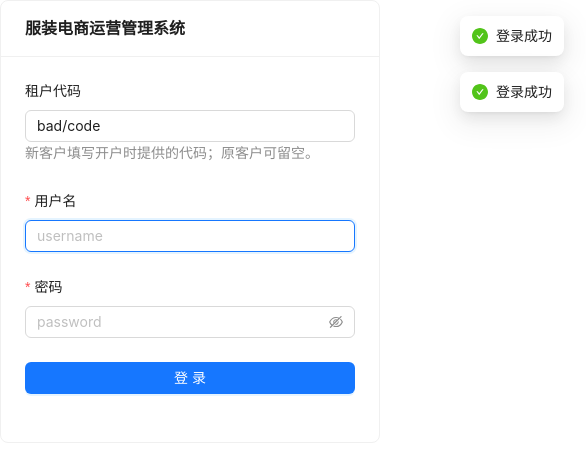
Test: 租户登录 › 非法租户代码不提交
This screenshot has width=586, height=460.
Step 1. Type "admin" into the field labelled "用户名" → (190, 236), box [25,220,355,252]
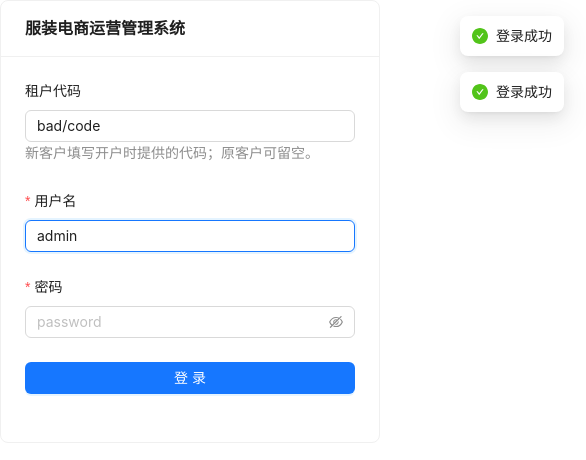
Step 2. Type "SyntheticPwd123" into the password field labelled "密码" → (181, 322), box [37,311,325,333]
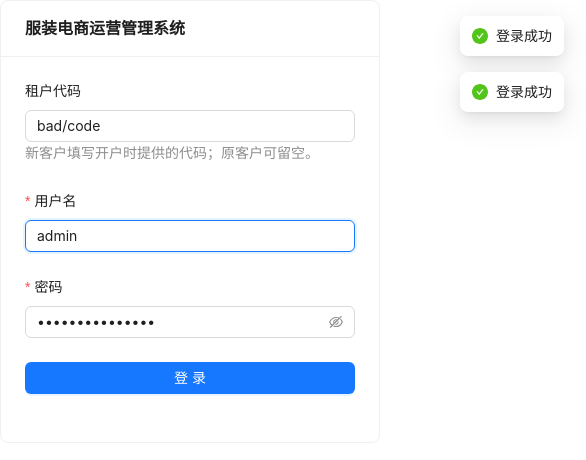
Step 3. Click the button "登 录" → (190, 378), box [25,362,355,394]
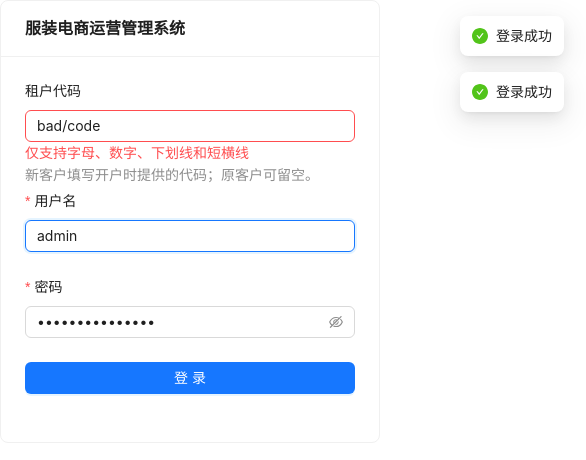
Result: the text "仅支持字母、数字、下划线和短横线" is shown at [25,144,249,161]
